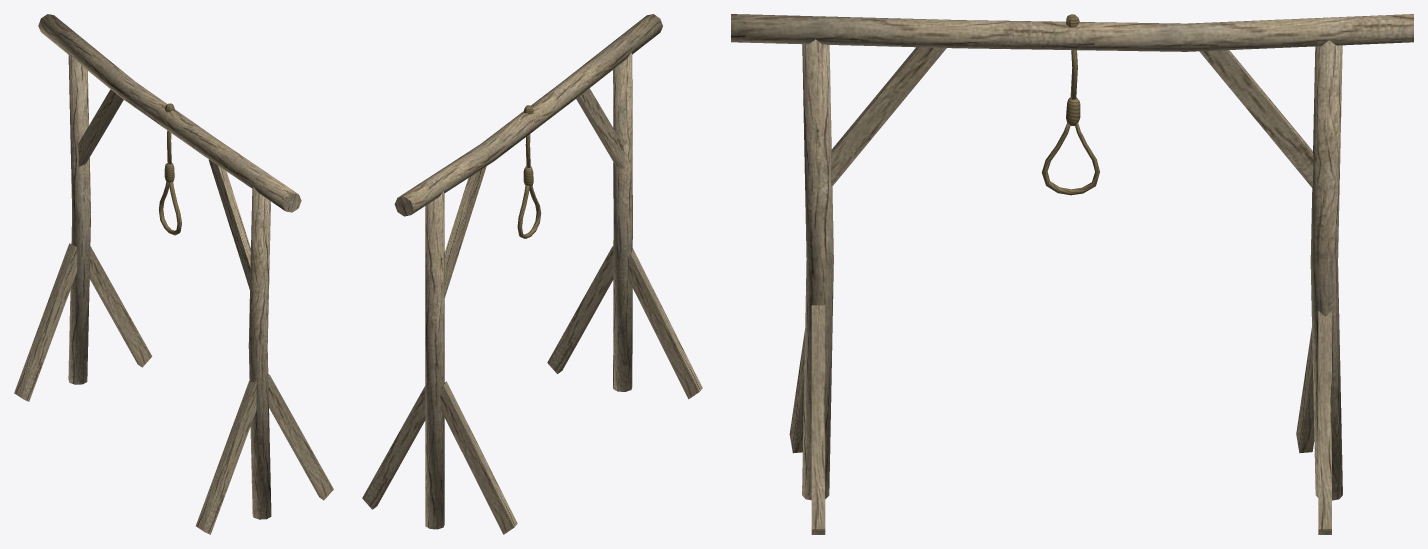
Rendered from p_gallows.glb.
The picture shows the model from 3 angles, left to right: view 1: azimuth 30°, elevation 25°; view 2: azimuth 150°, elevation 25°; view 3: azimuth 270°, elevation 25°; orthographic projection. The views are drawn at different scales.
Parts seen in each view (by area): view 1: gallow; view 2: gallow; view 3: gallow.
Part boxes in pixels (x1=…): gallow: x1=14, y1=14, x2=333, y2=534; gallow: x1=362, y1=14, x2=702, y2=534; gallow: x1=731, y1=14, x2=1413, y2=534.
Bounding box in the file's own units: 2.66 × 6.2 × 7.97.
1 material, 1 textured.
